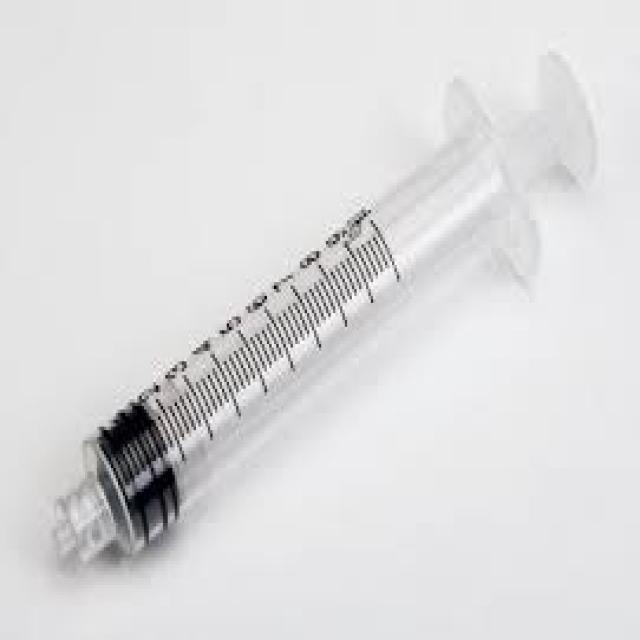pcb: (52, 196, 406, 564)
syringe: (47, 45, 598, 568)
